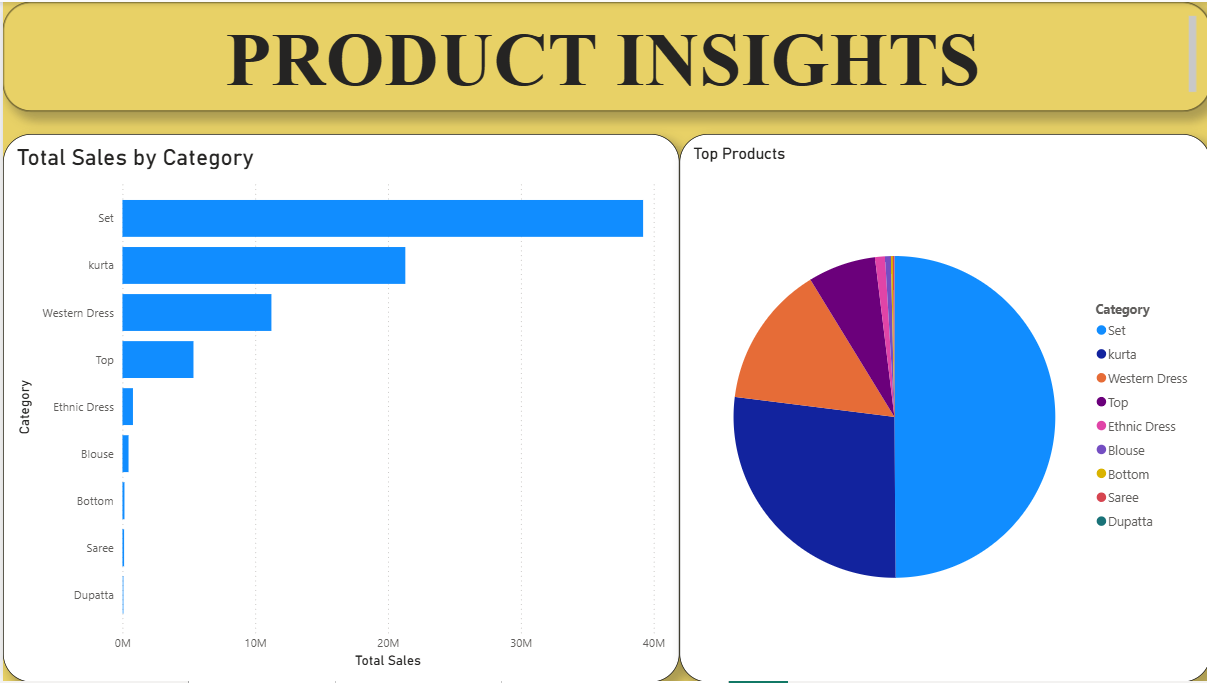

The page's visual inventory and layout, read from the dashboard file:
{"tool":"powerbi","page":{"name":"PRODUCT INSIGHTS","canvas":[1280,720],"ordinal":2},"visuals":[{"type":"clusteredBarChart","fields":{"Category":["Amazon Sale Report.Category"],"Y":["Amazon Sale Report.Total Sales"]},"box":[0,139.3,717.3,581.3],"z":0},{"type":"pieChart","title":"Top Products","fields":{"Category":["Amazon Sale Report.Category"],"Y":["Sum(Amazon Sale Report.Amount)"]},"box":[717.3,139.3,563.5,581.3],"z":1},{"type":"textbox","box":[0,0,1280.4,116.1],"z":2}]}

Visuals, with their boxes in screenshot pixels (x1, y1, x2, y2), scaled from the page's 1280x720 canvas onto the 1207x683 screenshot:
clusteredBarChart - Amazon Sale Report.Category x Amazon Sale Report.Total Sales: <box>0,132,676,682</box>
"Top Products" pieChart: <box>676,132,1206,682</box>
textbox: <box>0,0,1206,110</box>
